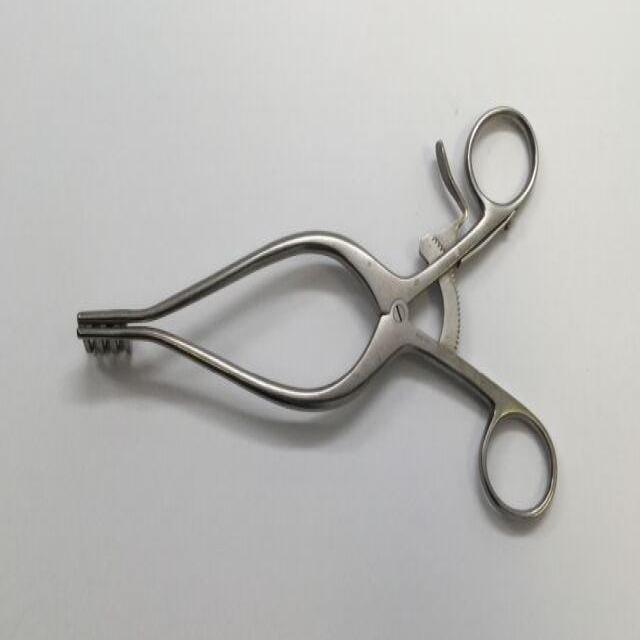Weitlaner: (72, 100, 561, 540)
